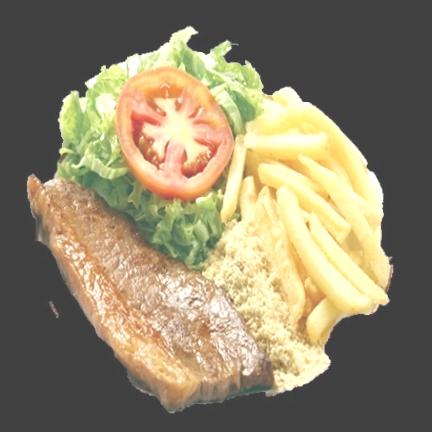meat: (28, 175, 273, 409)
potato: (222, 88, 390, 343)
salad: (57, 75, 223, 268), (137, 27, 263, 135)
tomato: (116, 66, 233, 200)
